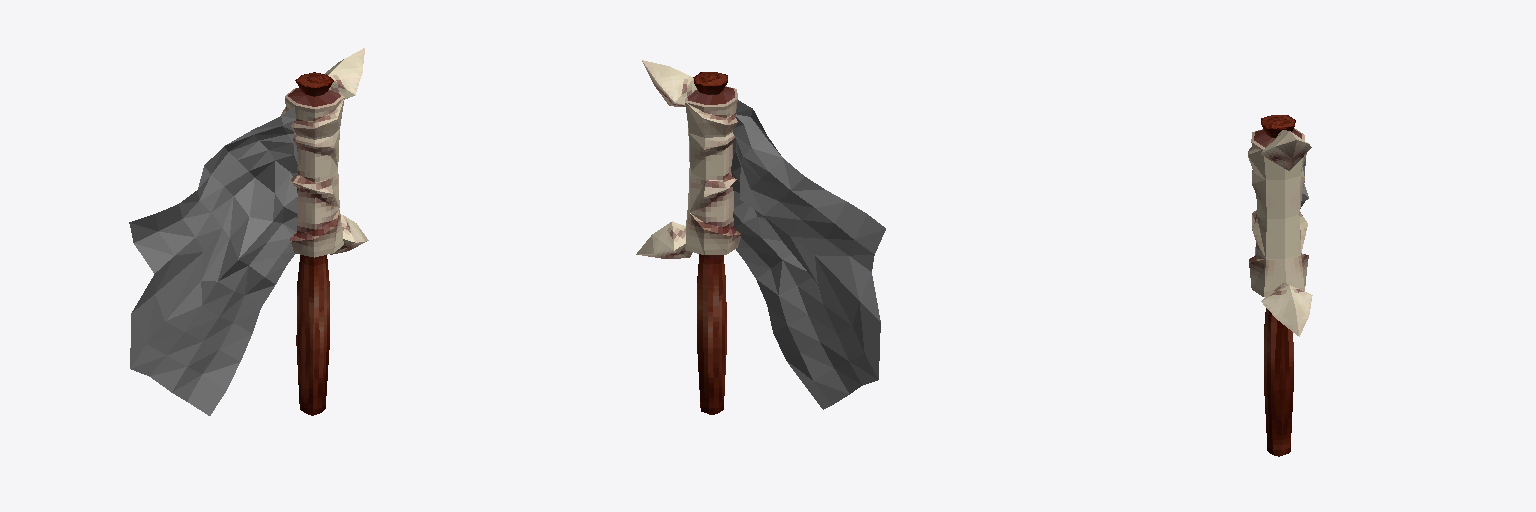
3 views of the same model, side by side, from view 1: azimuth 30°, elevation 25°; view 2: azimuth 150°, elevation 25°; view 3: azimuth 270°, elevation 25° (orthographic).
Parts seen in each view (by area): view 1: Inst3D_RefRep.294, Inst3D_RefRep.294_Ref; view 2: Inst3D_RefRep.294, Inst3D_RefRep.294_Ref; view 3: Inst3D_RefRep.294_Ref.
Boxes of the visible parts, <box> form: Inst3D_RefRep.294: <box>129,106,297,415</box>; Inst3D_RefRep.294_Ref: <box>281,48,368,415</box>; Inst3D_RefRep.294: <box>731,100,885,409</box>; Inst3D_RefRep.294_Ref: <box>636,60,740,414</box>; Inst3D_RefRep.294_Ref: <box>1248,115,1312,456</box>.
Bounding box in the file's own units: 2.38 × 3.22 × 0.5475.
2 materials, 1 textured.